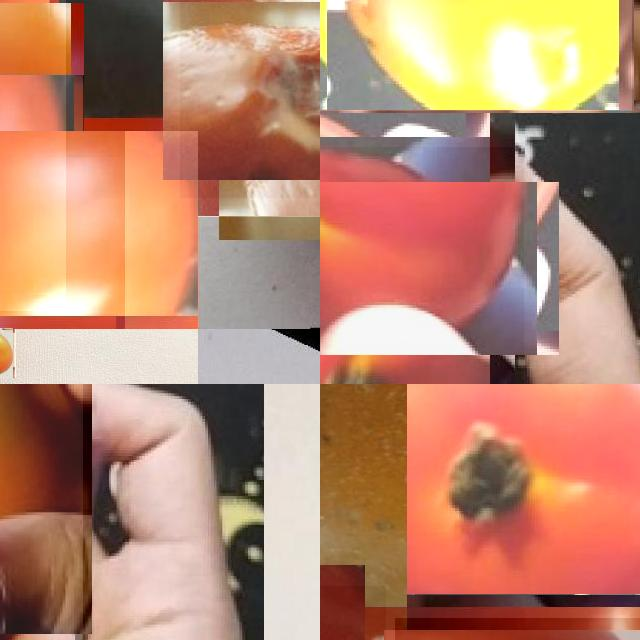0: (407, 384, 640, 594), (0, 131, 198, 329), (0, 0, 66, 311), (0, 328, 14, 378)
1: (180, 0, 320, 198)
Fresh Tomato: (320, 147, 524, 384)
Rotten Tomato: (320, 0, 632, 111), (0, 384, 83, 640)
